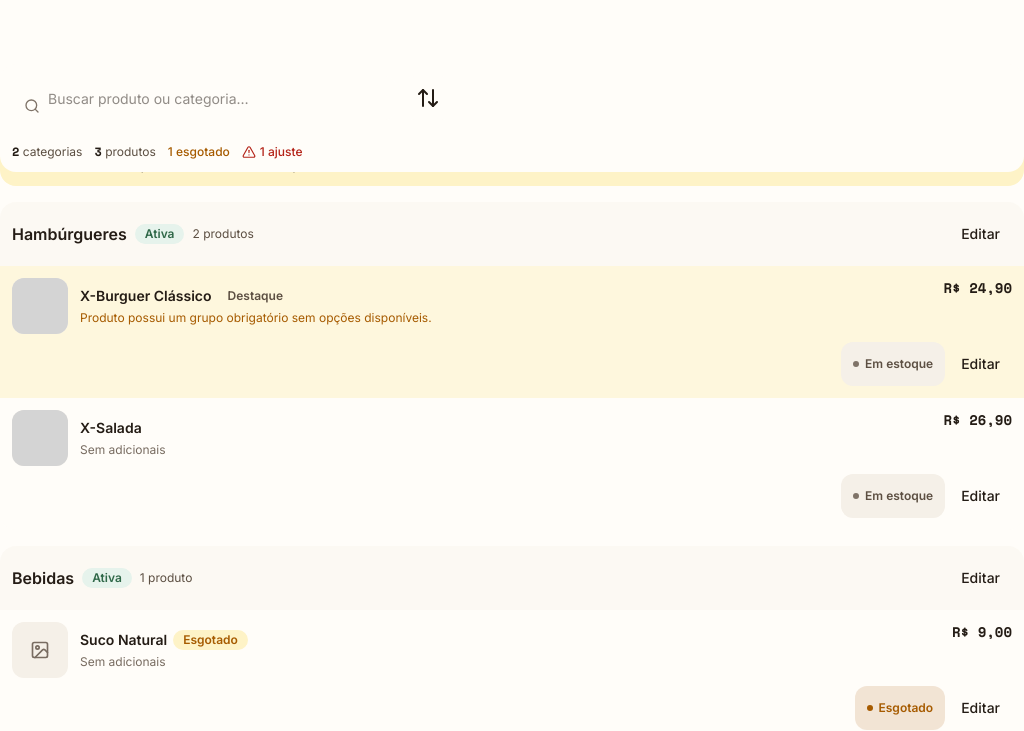
Test: CatalogClientView › mantém ordenação fora da interface até o operador ativar o modo
The image size is (1024, 731).
Click the button named "Organizar": [428, 98] box [404,76,452,120]
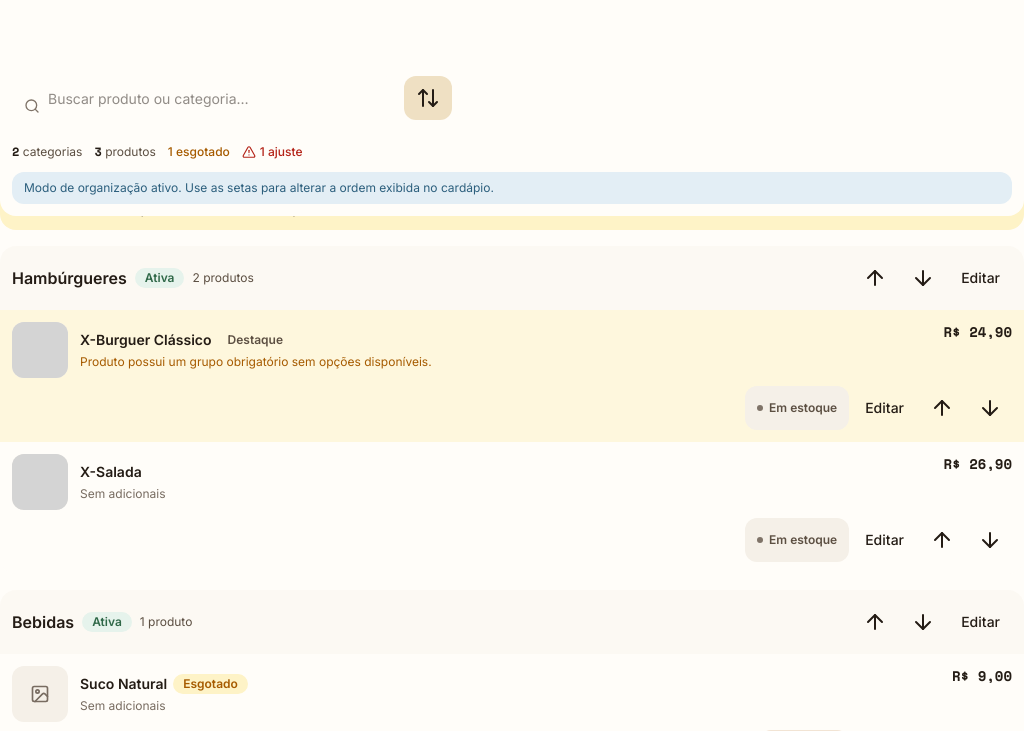
Now the button named "Mover categoria Hambúrgueres para baixo" is shown, box [901,256,945,300]
Now the button named "Mover produto X-Burguer Clássico para baixo" is shown, box [968,386,1012,430]
